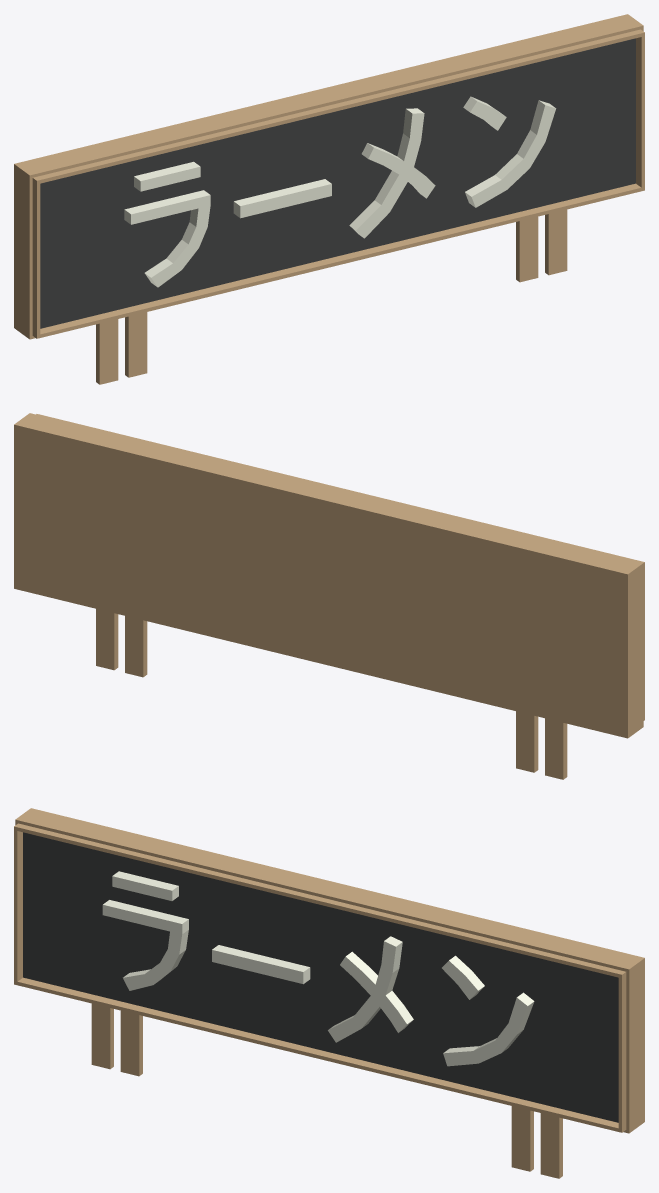
Rendered from SM_sign_ramen_japanese.fbx.
3 renders of one model, top to bottom at view 1: azimuth 30°, elevation 25°; view 2: azimuth 150°, elevation 25°; view 3: azimuth 330°, elevation 25°, orthographic.
Parts seen in each view (by area): view 1: Box164; view 2: Box164; view 3: Box164.
Part boxes in pixels (x1,y1,x2,y2): Box164: (14,14,644,384); Box164: (14,413,644,779); Box164: (14,808,644,1178).
Size of the model in its own units: 159 by 10.19 by 56.74.
